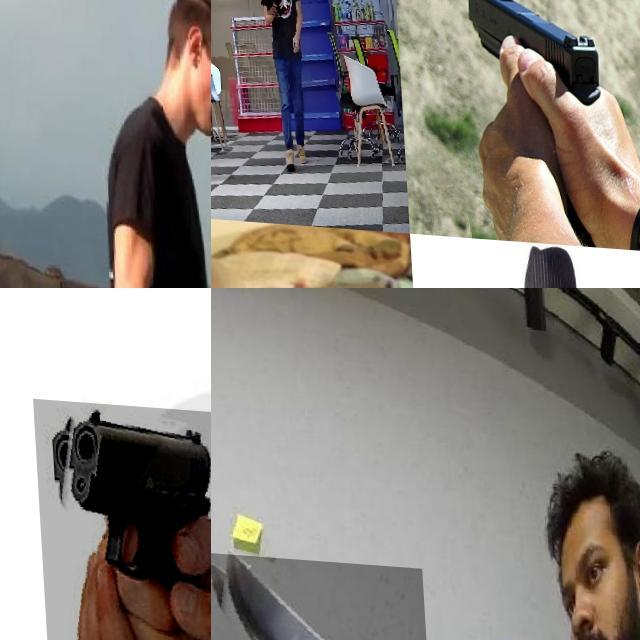-: (211, 549, 427, 640)
gun-knife-thesis - v11 Yolov5 augmented: (30, 396, 211, 640), (459, 0, 601, 122), (265, 0, 283, 13)
